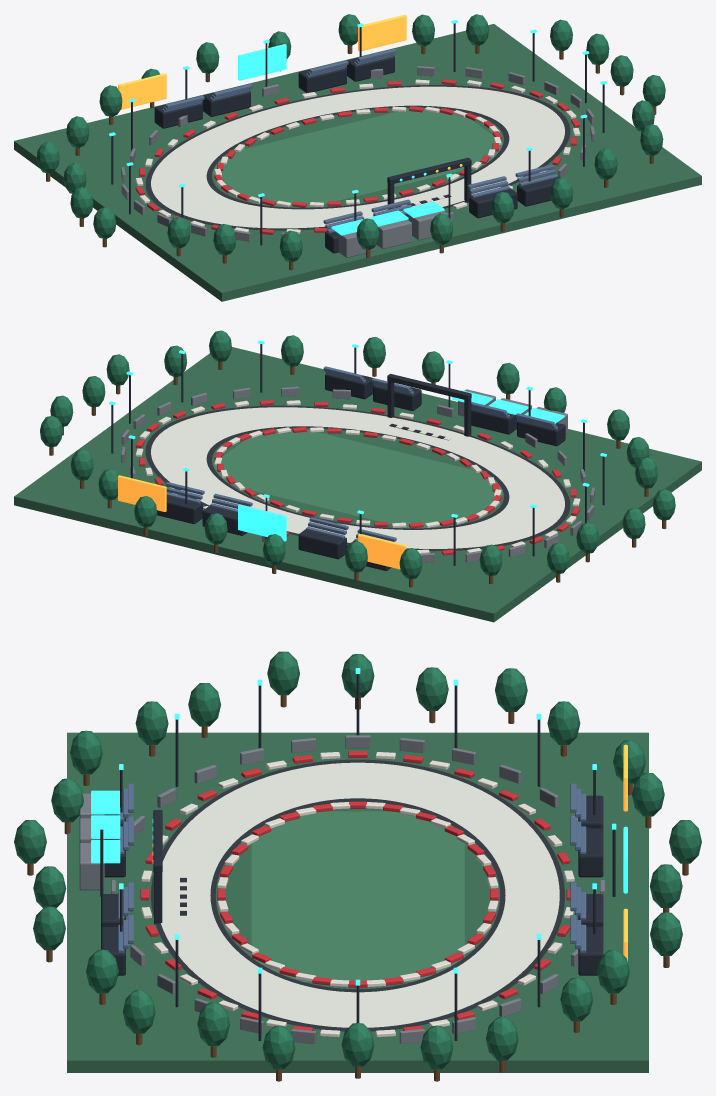
The model's file is kenney-neon-race-circuit.glb.
The picture shows the model from 3 angles, top to bottom: view 1: azimuth 30°, elevation 25°; view 2: azimuth 150°, elevation 25°; view 3: azimuth 270°, elevation 25°; orthographic projection. The views are drawn at different scales.
Parts seen in each view (by area): view 1: terrain-ground, road-inner-lane-line, infield-ground, road-track-circuit, billboard-0, billboard-10, billboard--10, grandstand-base-1-4, grandstand-base-1--4, pit-garage--5, grandstand-base-1--8, grandstand-base--1-8 (+29 smaller); view 2: terrain-ground, road-inner-lane-line, infield-ground, road-track-circuit, billboard-0, billboard-10, grandstand-base-1--4, billboard--10, grandstand-base-1-8, grandstand-base--1--8, grandstand-base--1--4, grandstand-base--1-8 (+29 smaller); view 3: terrain-ground, road-inner-lane-line, infield-ground, road-track-circuit, tree-canopy-0, tree-canopy-21, tree-canopy-24, tree-canopy-12, tree-canopy-5, tree-canopy-11, tree-canopy-6, tree-canopy-3 (+25 smaller).
Boxes of the visible parts, x1,y1,x2,y2 form: terrain-ground: (14,24,701,301); road-inner-lane-line: (151,86,564,228); infield-ground: (212,108,503,207); road-track-circuit: (145,85,570,230); billboard-0: (238,44,286,80); billboard-10: (358,14,406,51); billboard--10: (118,73,166,109); grandstand-base-1-4: (298,67,346,93); grandstand-base-1--4: (202,91,250,116); pit-garage--5: (376,219,411,249); grandstand-base-1--8: (154,102,202,128); grandstand-base--1-8: (517,176,559,206); terrain-ground: (14,347,701,622); road-inner-lane-line: (151,407,564,548); infield-ground: (212,428,503,528); road-track-circuit: (145,405,570,551); billboard-0: (238,504,286,541); billboard-10: (118,475,166,511); grandstand-base-1--4: (298,529,346,559); billboard--10: (358,534,406,569); grandstand-base-1-8: (157,496,202,524); grandstand-base--1--8: (517,420,565,446); grandstand-base--1--4: (471,409,516,434); grandstand-base--1-8: (325,373,373,399); terrain-ground: (67,732,648,1072); road-inner-lane-line: (161,762,559,1027); infield-ground: (251,811,464,981); road-track-circuit: (151,759,564,1031); tree-canopy-0: (341,1023,374,1066); tree-canopy-21: (33,906,65,950); tree-canopy-24: (197,1002,229,1046); tree-canopy-12: (416,667,448,711); tree-canopy-5: (650,912,682,956); tree-canopy-11: (495,668,527,711); tree-canopy-6: (649,864,682,908); tree-canopy-3: (560,977,593,1021).
Size of the model in its own units: 47.25 by 4.75 by 35.45.
